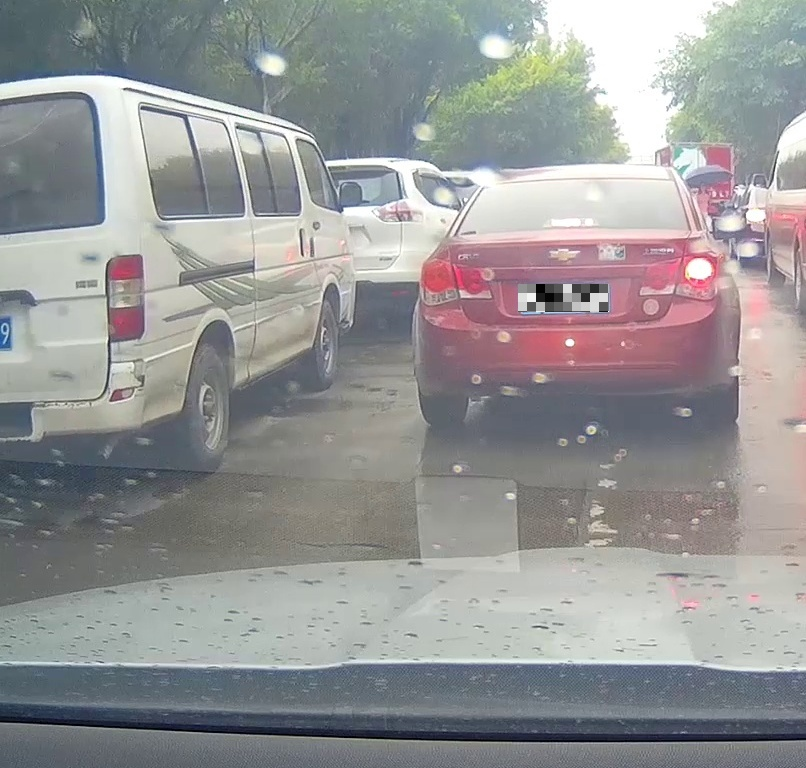L_light: (417, 256, 494, 305)
R_light: (637, 251, 721, 301)
T_light: (543, 217, 595, 227)
day-right: (413, 169, 730, 429)
plate_1: (518, 284, 609, 312)
